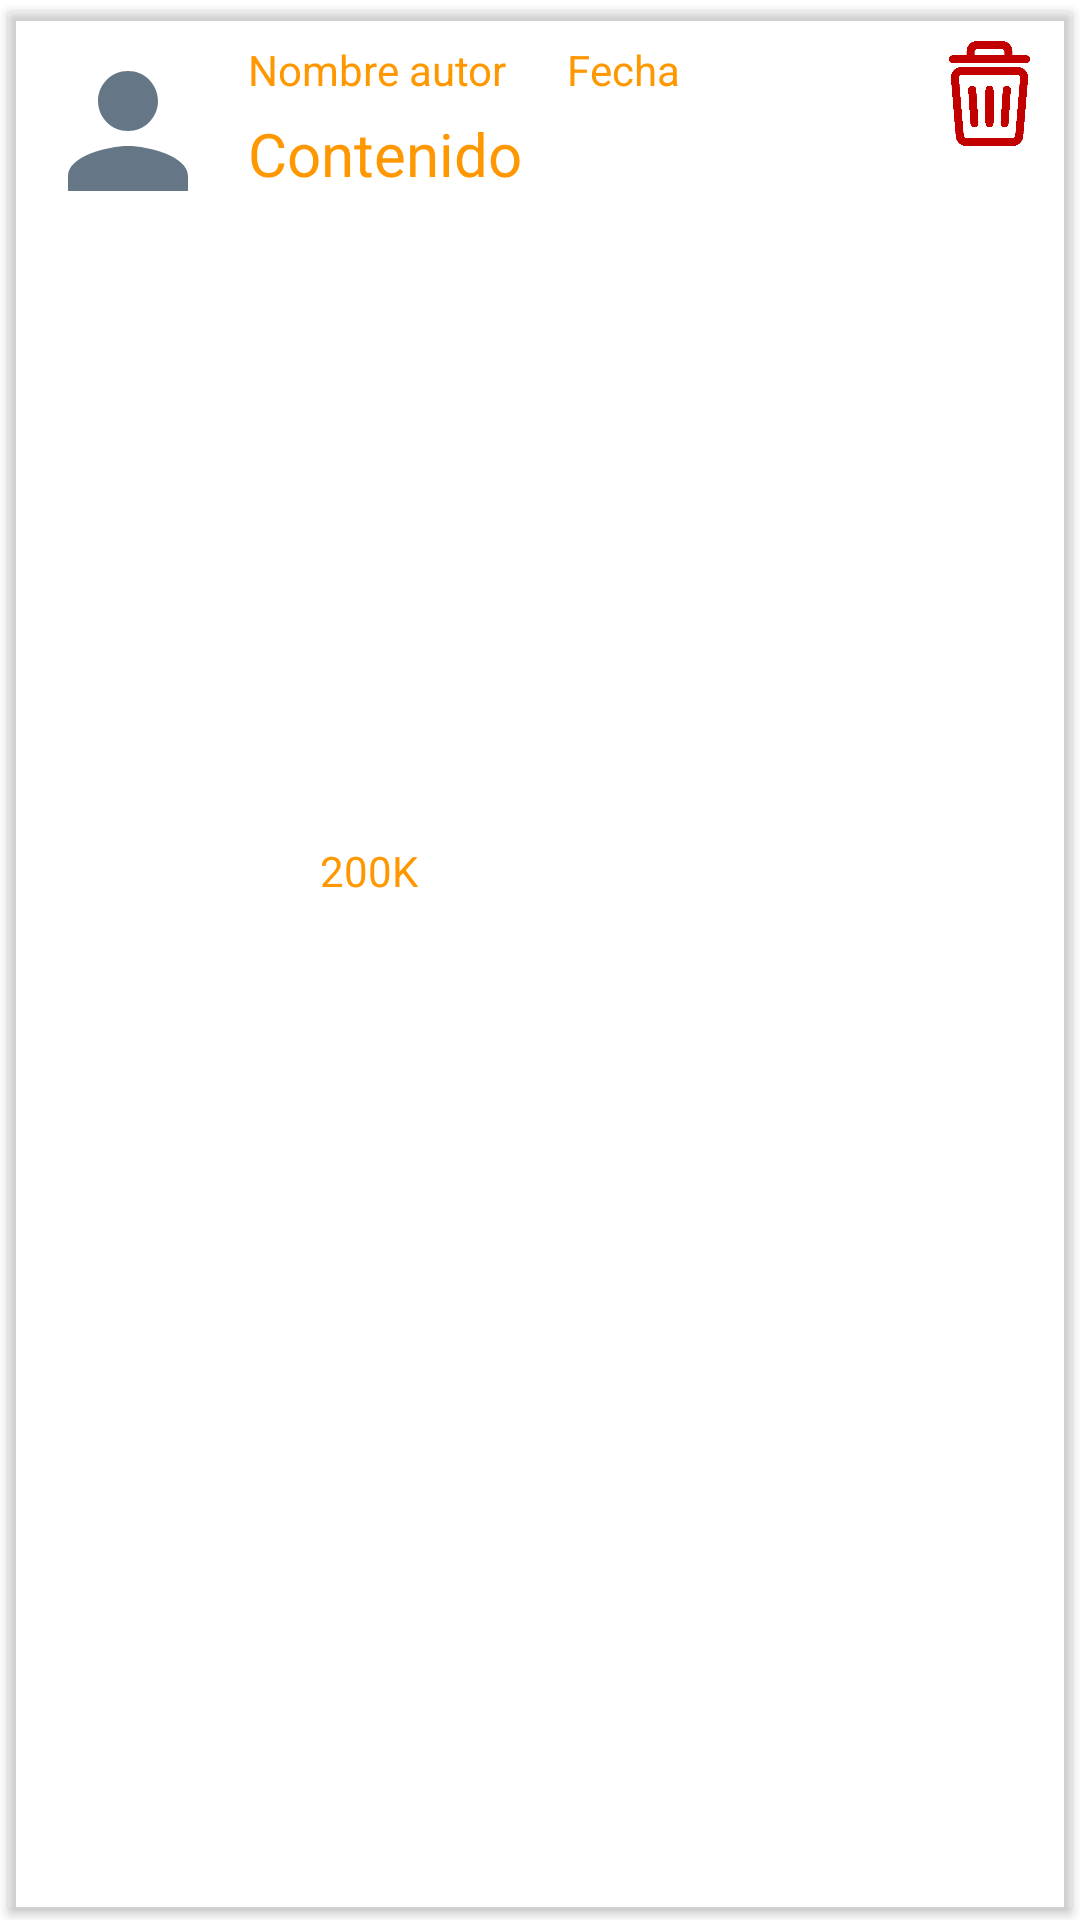

Icon bounding boxes for this 1080w x 1920h phone screenshot, format (x1, y1, x2, y2):
papelera: (949, 41, 1030, 146)
user: (68, 71, 188, 191)
